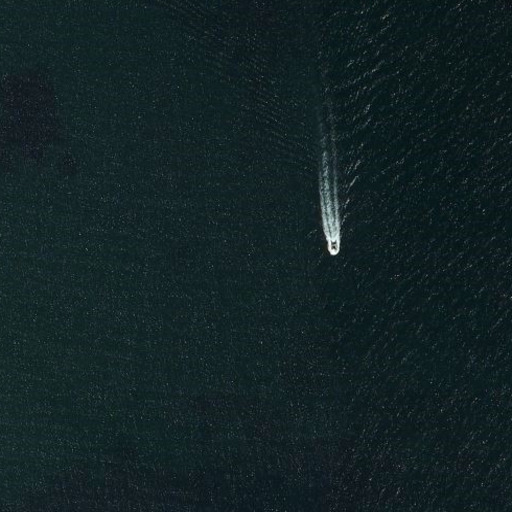ship: (325, 232, 342, 258)
